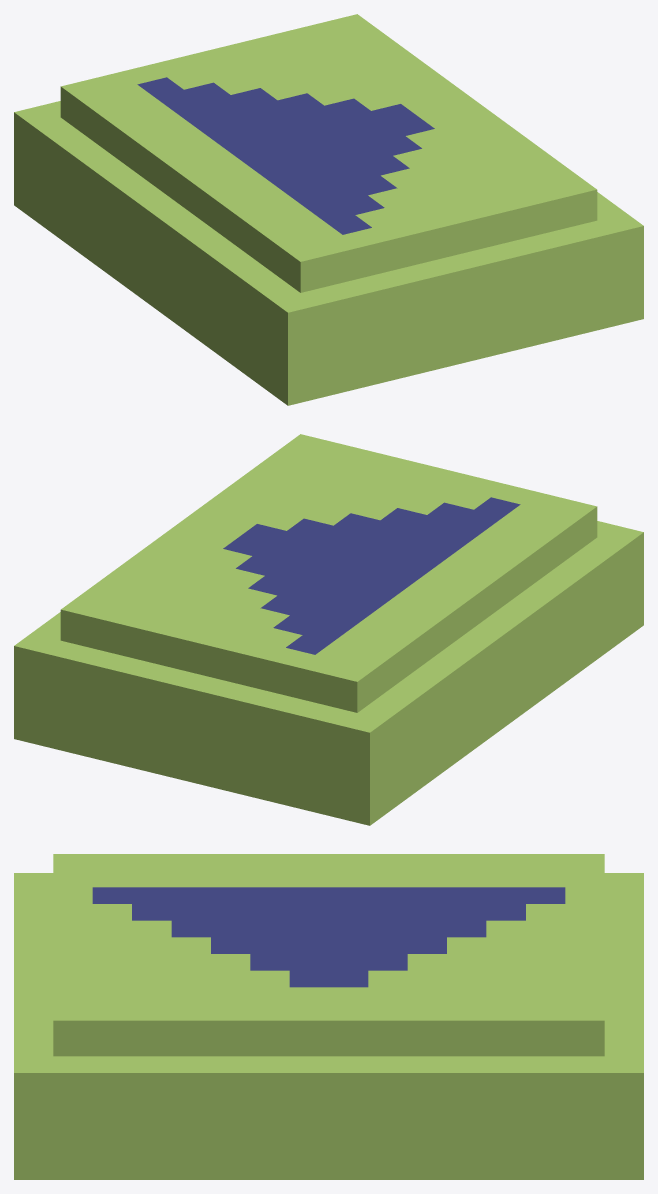
File: Button2.fbx
The picture shows the model from 3 angles, top to bottom: view 1: azimuth 30°, elevation 25°; view 2: azimuth 150°, elevation 25°; view 3: azimuth 270°, elevation 25°; orthographic projection. The views are drawn at different scales.
Visible parts, largest first — view 1: botonFlecha CSE-0; view 2: botonFlecha CSE-0; view 3: botonFlecha CSE-0.
Boxes of the visible parts, x1,y1,x2,y2 form: botonFlecha CSE-0: (14,14,643,405); botonFlecha CSE-0: (14,434,643,825); botonFlecha CSE-0: (14,854,643,1179).
Bounding box in the file's own units: 1200 × 400 × 1600.
